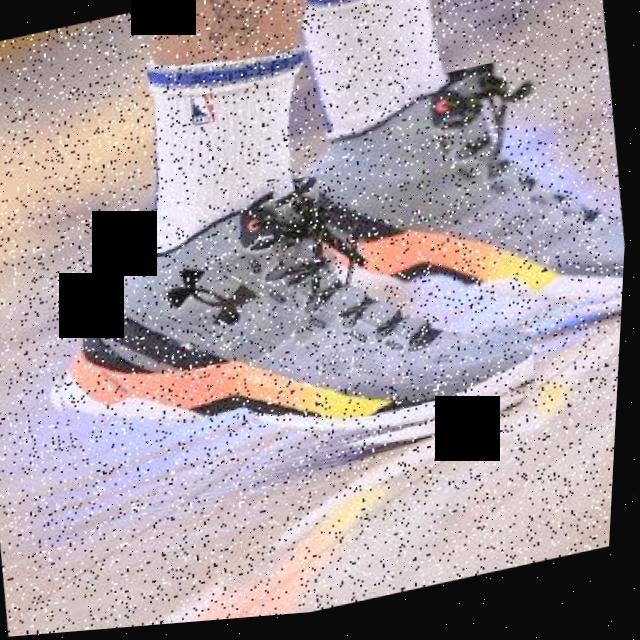shoe: (27, 139, 554, 523), (251, 46, 636, 391)
